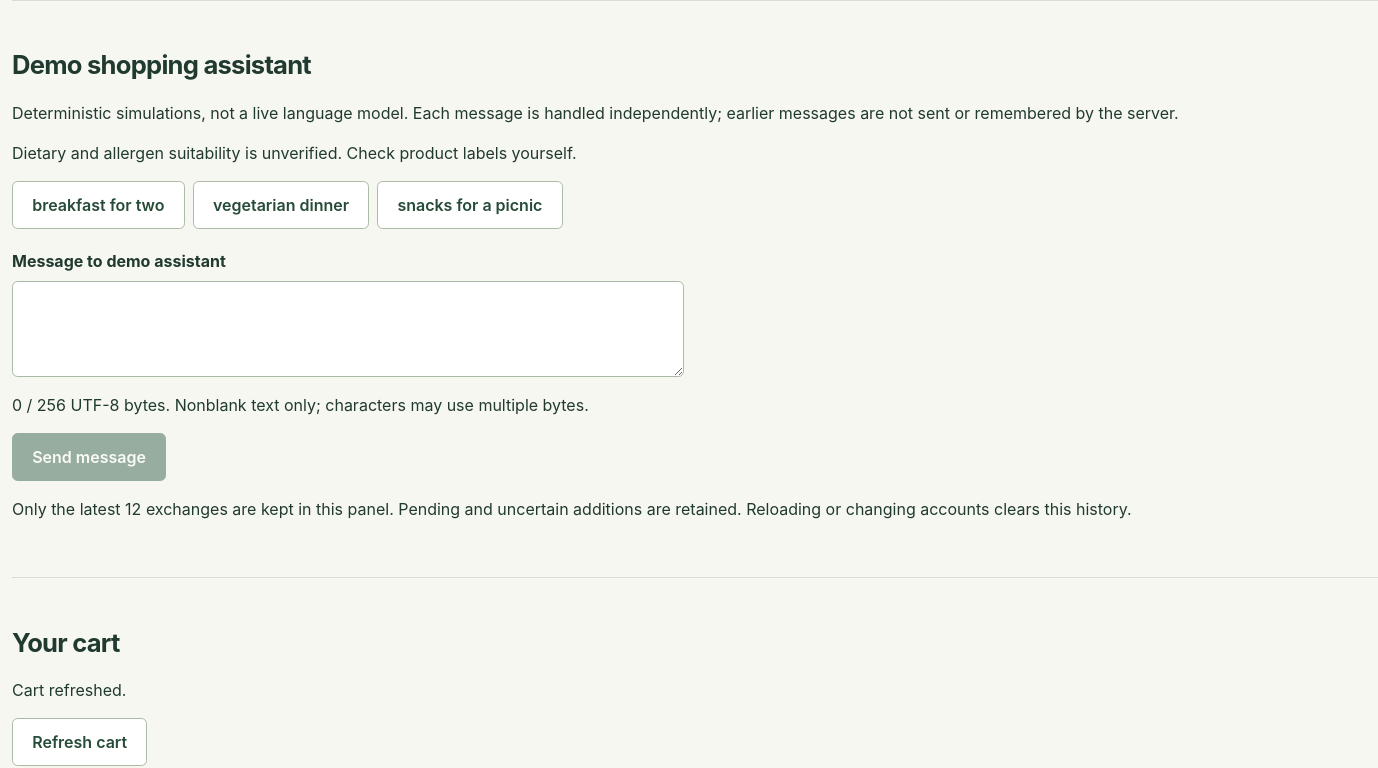
Test: demo assistant panel and shared cart › bounds a stalled request, then requires a deliberate resend
The width and height of the screenshot is (1378, 768).
Expected: the text "Cart refreshed." is shown, [12,680,126,700]
In the text box labelled "Message to demo assistant": point(348, 329) [12,281,684,377], type "x"
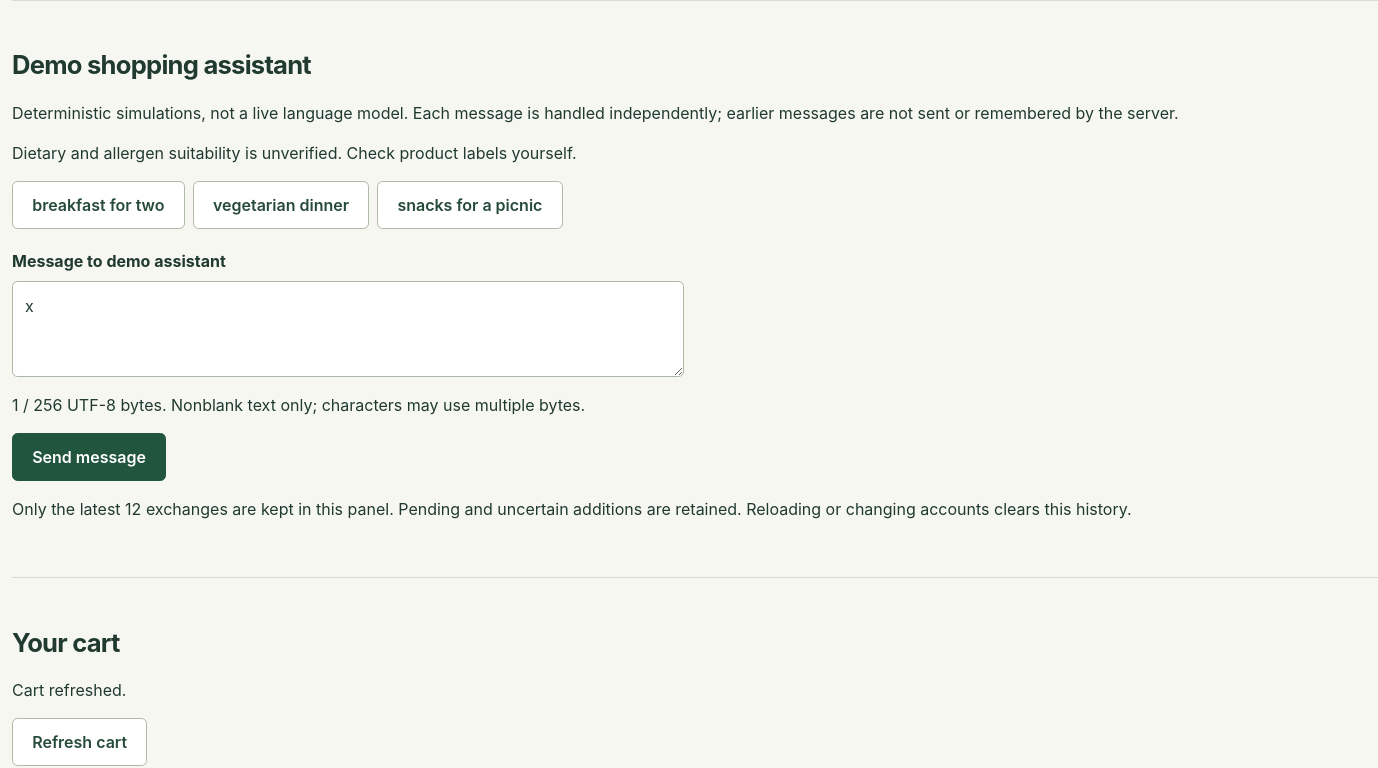
Click the button "Send message": point(89, 457) [12,433,166,481]
Wait 8000 ms
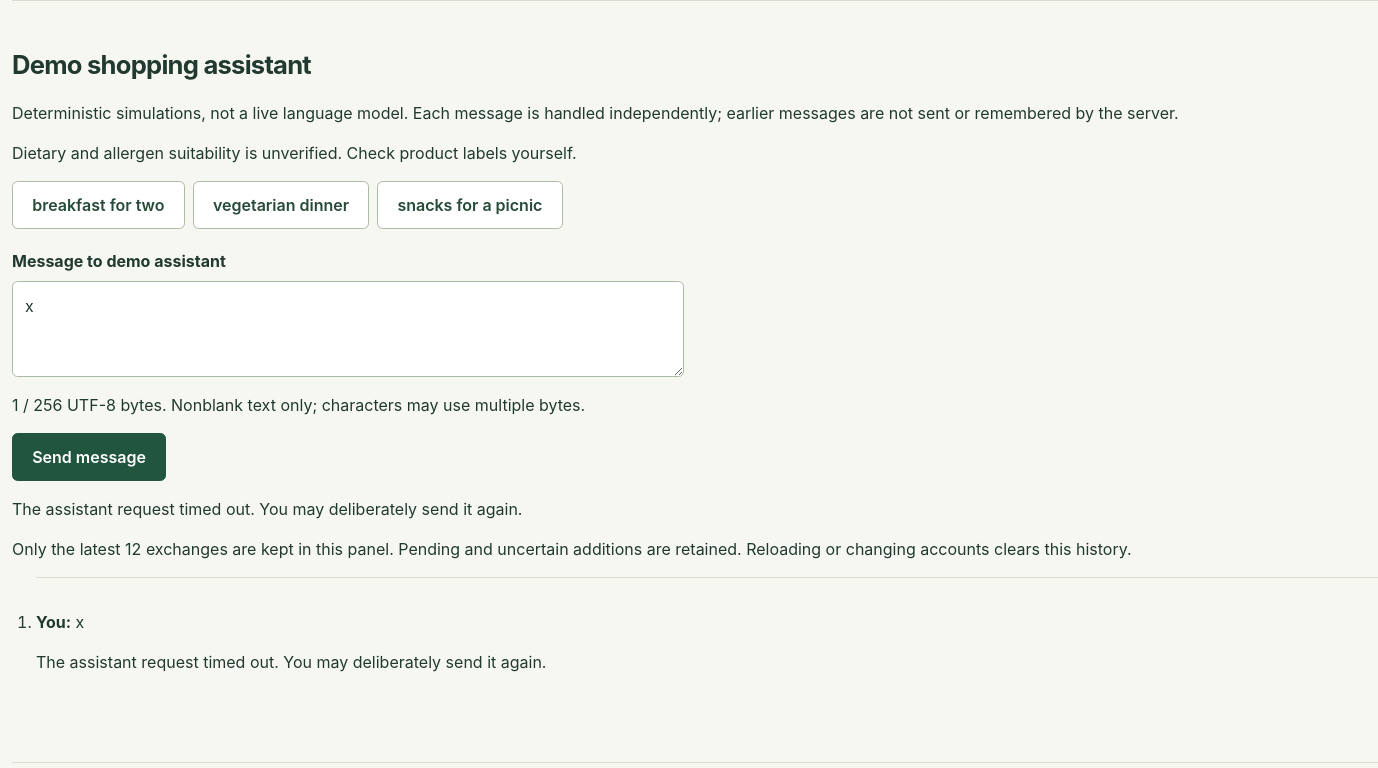
Expected: the button "Send message" is enabled, [12,433,166,481]
Expected: the text "The assistant request timed out. You may deliberately send it again." is shown, [12,499,522,519]
